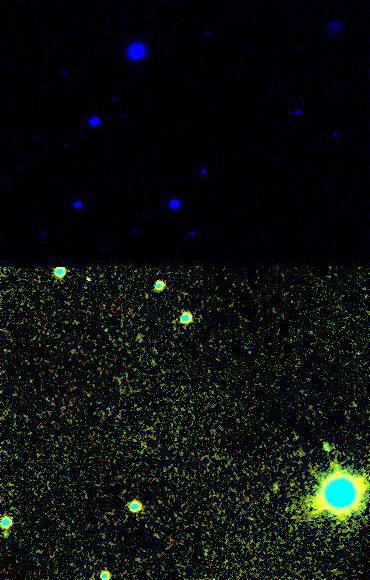star: (0, 523, 16, 553)
